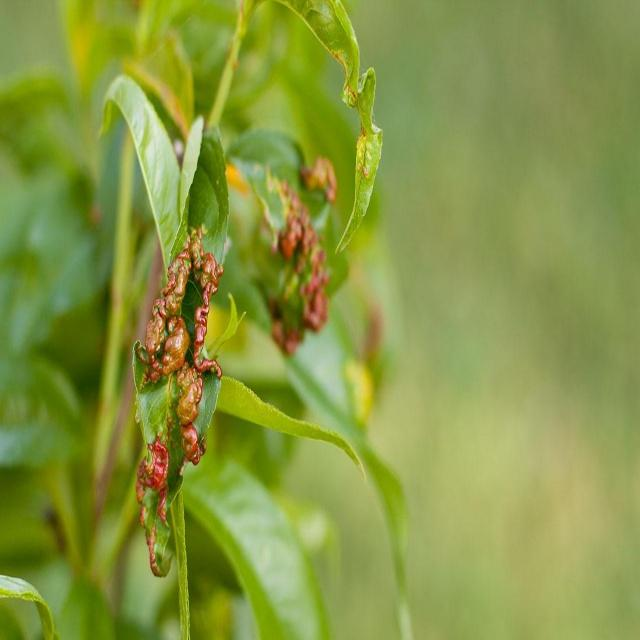leaf_curl: (82, 214, 272, 588), (229, 115, 343, 358)
